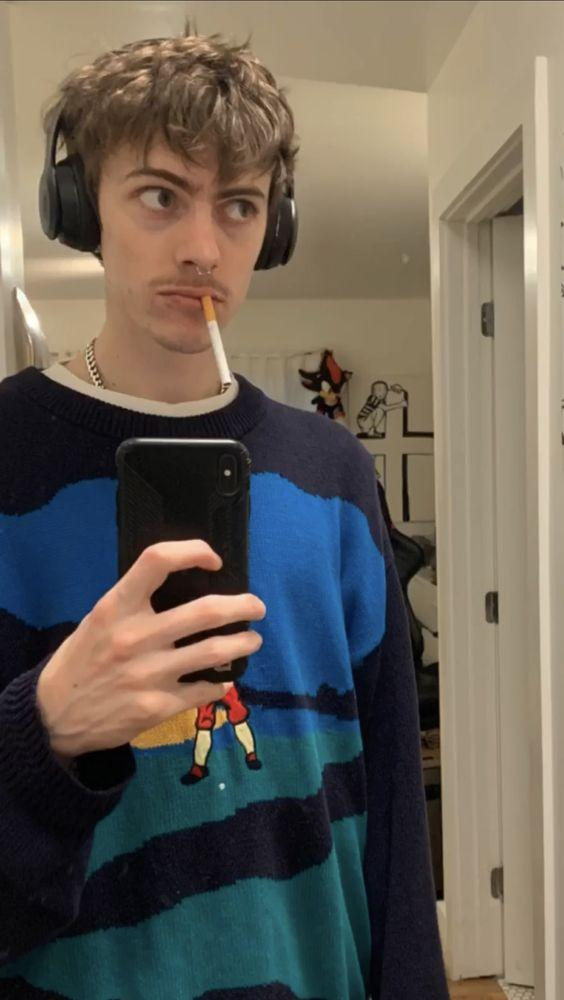cigarette: (200, 293, 232, 387)
